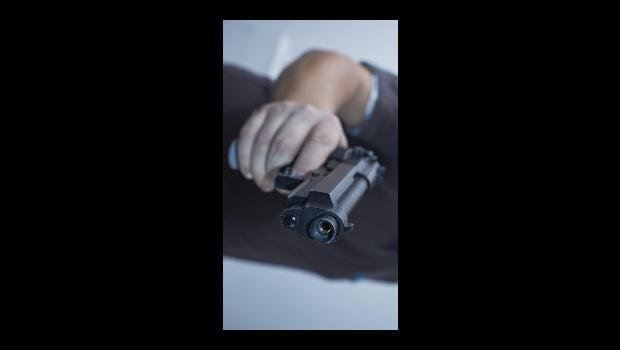weapon: (226, 127, 388, 246)
